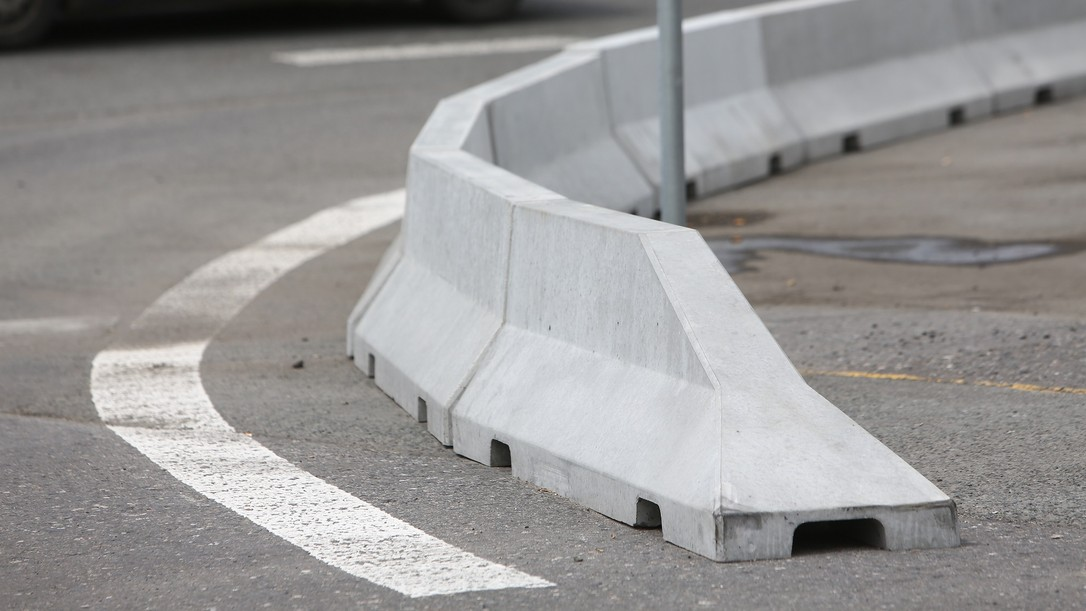Barrier: (305, 124, 990, 559)
